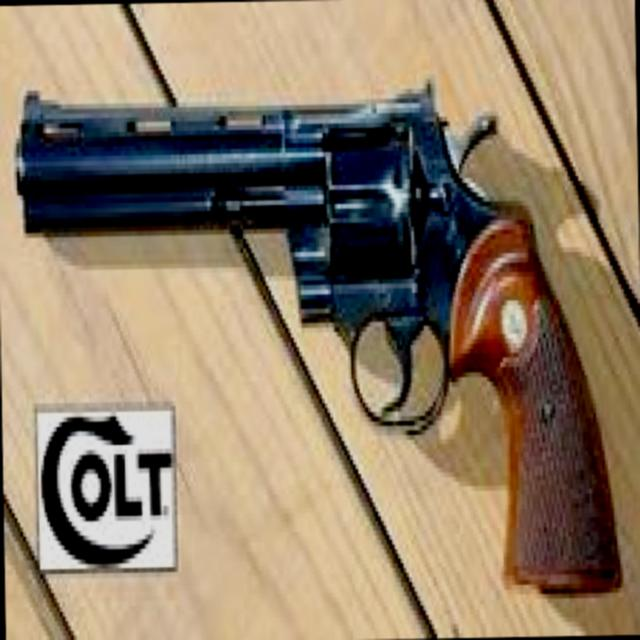revolver: (1, 48, 632, 620)
